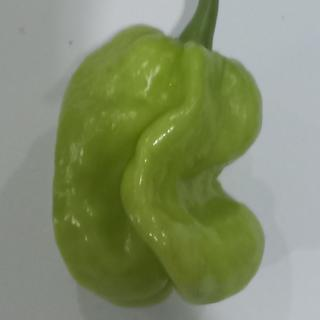Grade-A: (45, 18, 273, 308)
